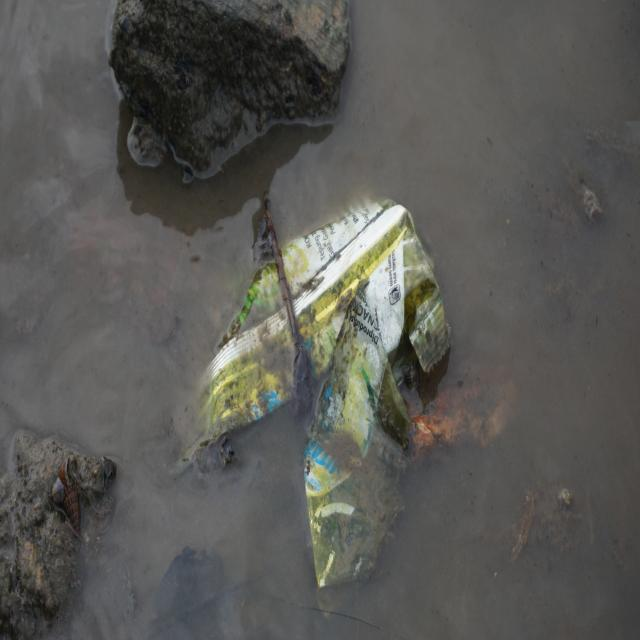Bungkus Makanan: (185, 192, 453, 616)
